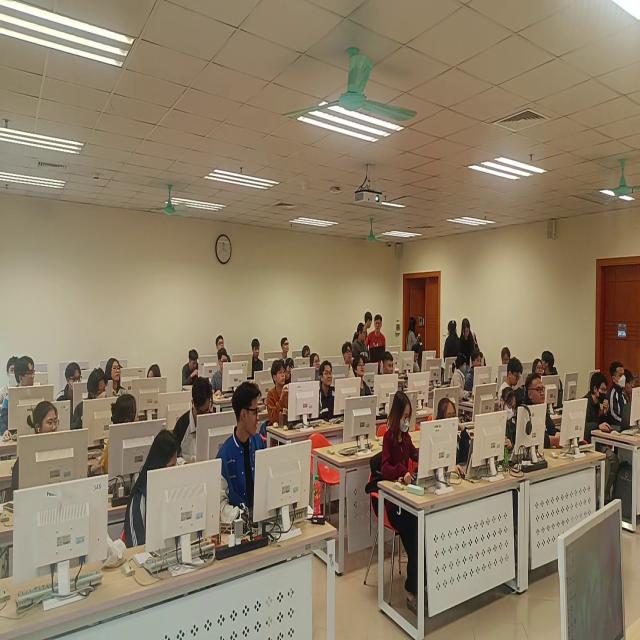raise_head: (13, 406, 72, 493), (526, 374, 574, 452), (268, 360, 303, 432), (318, 362, 342, 424), (352, 355, 375, 412), (249, 338, 269, 384), (107, 357, 128, 399), (280, 338, 299, 363), (341, 342, 355, 375), (215, 332, 231, 355), (311, 355, 323, 377), (534, 359, 546, 381)
stand: (367, 312, 387, 369), (444, 319, 461, 379), (406, 311, 421, 378), (460, 318, 477, 372)
using_computer: (130, 433, 186, 557), (382, 392, 432, 517), (434, 399, 489, 487), (172, 380, 217, 465), (580, 379, 628, 446), (494, 388, 524, 461), (78, 369, 111, 434), (610, 365, 640, 424), (382, 353, 417, 403), (57, 364, 90, 412), (212, 353, 238, 404), (184, 347, 213, 389), (470, 350, 494, 400), (411, 344, 434, 386), (497, 349, 512, 383)
